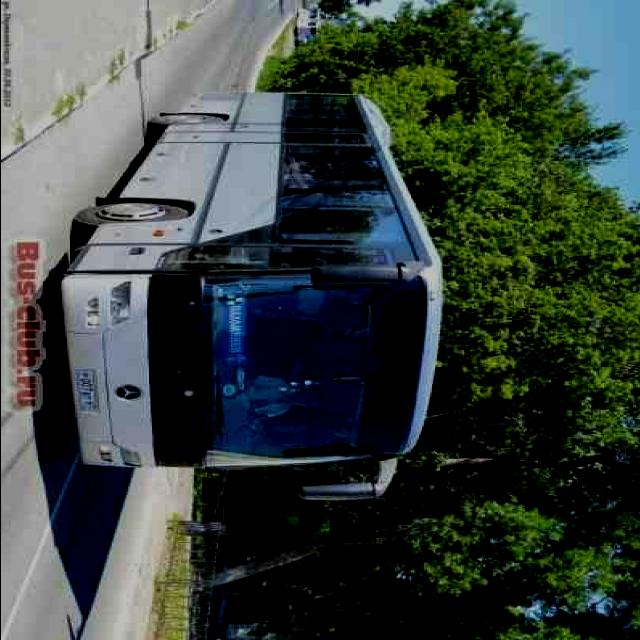bus: (53, 91, 447, 505)
